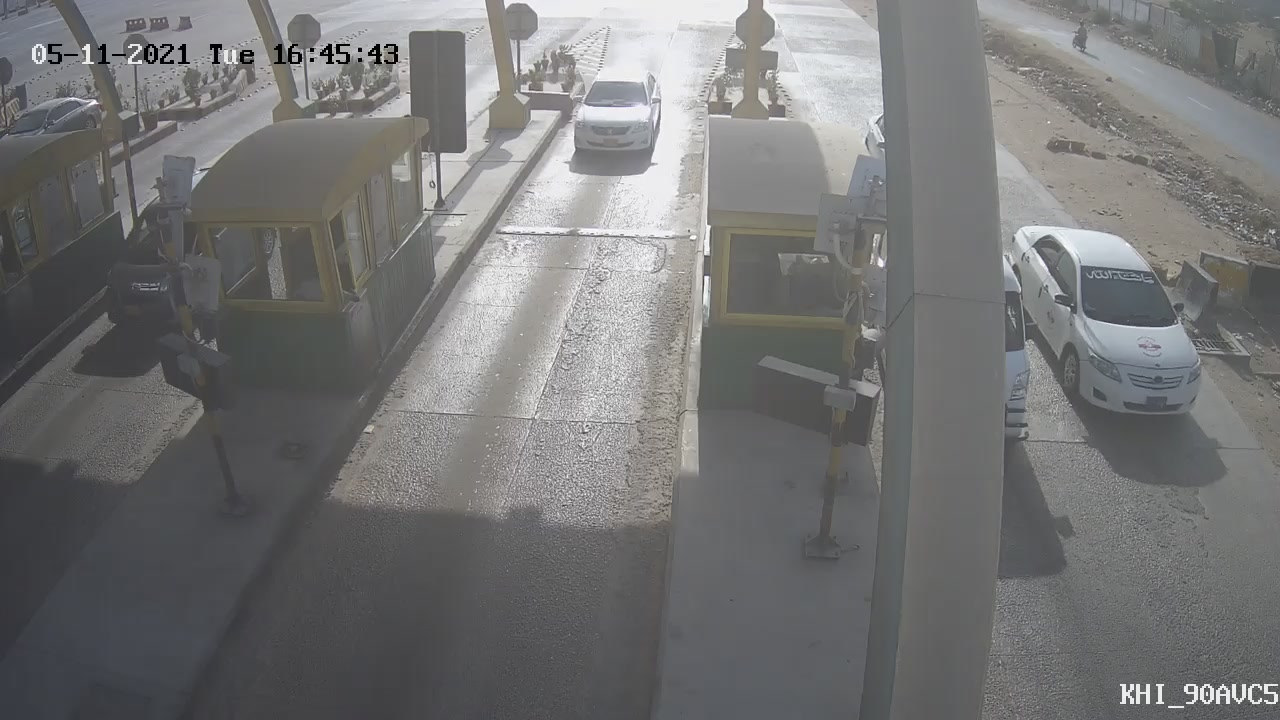F1: (559, 51, 674, 181)
